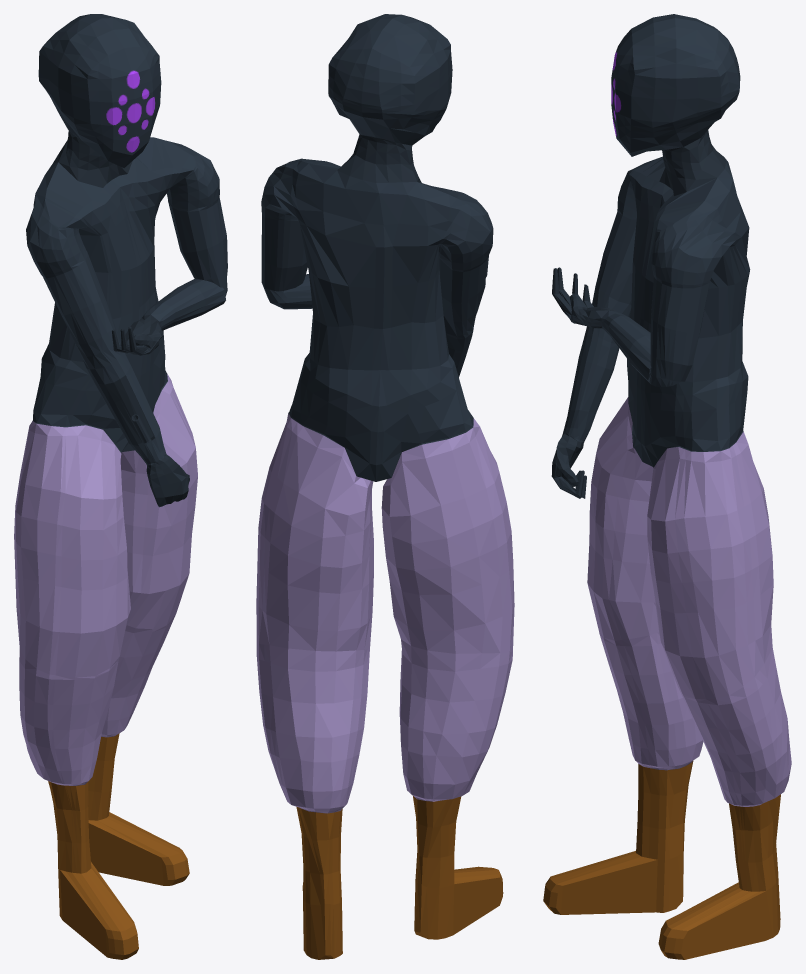
Rendered from Oracle_Reload_000019.obj.
3 renders of one model, left to right at view 1: azimuth 30°, elevation 25°; view 2: azimuth 150°, elevation 25°; view 3: azimuth 270°, elevation 25°, orthographic. The views are drawn at different scales.
Visible parts, largest first — view 1: Cube; view 2: Cube; view 3: Cube.
Boxes of the visible parts, box(x1,y1,x2,y2) form: Cube: box(14, 14, 227, 959); Cube: box(256, 14, 514, 959); Cube: box(543, 14, 791, 959).
Size of the model in its own units: 1.02 by 3.94 by 0.9762.
